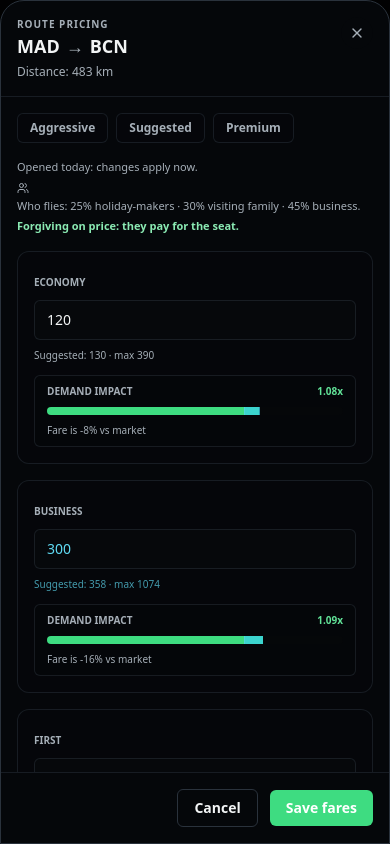
Test case: FareEditor › applies presets and marks the active one
Click the button "Suggested".
click(161, 128)  # box [116, 113, 205, 143]
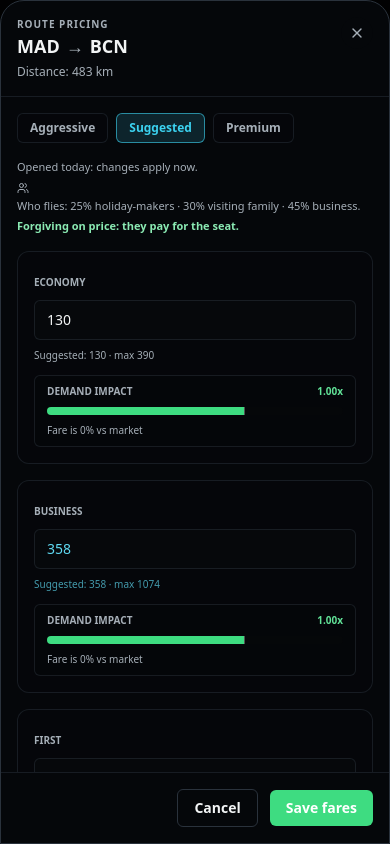
Check: the number field labelled "Economy" holds "130", box [34, 300, 356, 340]
Click the button "Aggressive".
click(63, 128)  # box [17, 113, 108, 143]
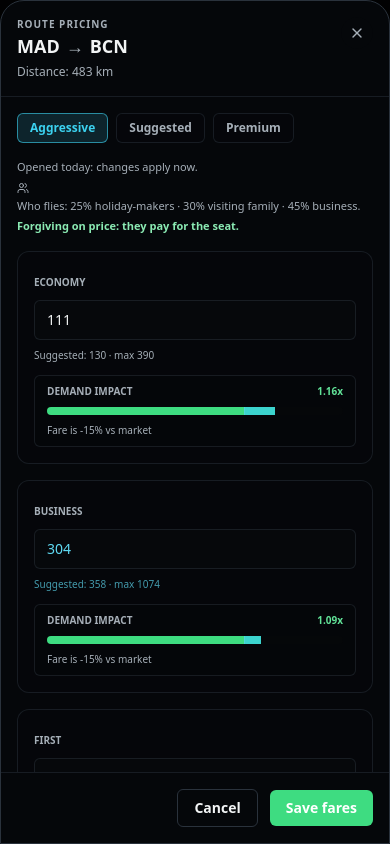
Check: the number field labelled "Economy" holds "111", box [34, 300, 356, 340]
